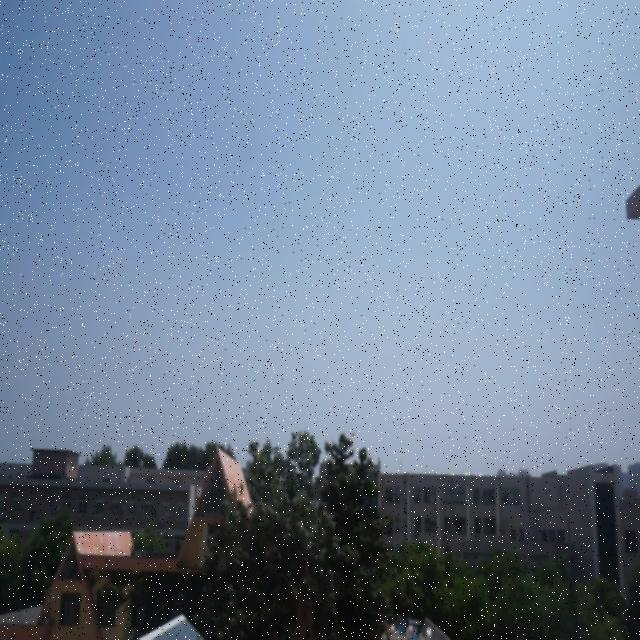UAV: (350, 432, 357, 438)
